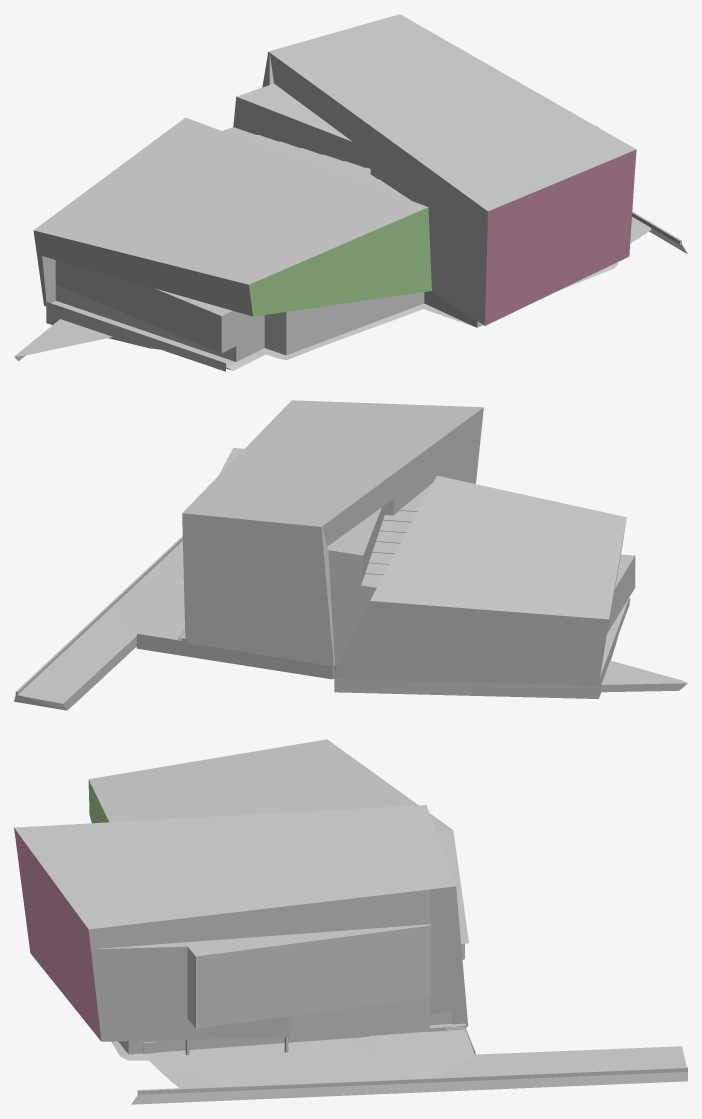
Rendered from Harpa.fbx.
3 views of the same model, one above another, from view 1: azimuth 30°, elevation 25°; view 2: azimuth 150°, elevation 25°; view 3: azimuth 270°, elevation 25° (orthographic). The views are drawn at different scales.
Visible parts, largest first — view 1: SketchUp; view 2: SketchUp; view 3: SketchUp.
Boxes of the visible parts, left/top/right/bottom form: SketchUp: left=14, top=14, right=687, bottom=371; SketchUp: left=14, top=400, right=687, bottom=710; SketchUp: left=14, top=739, right=687, bottom=1104.
Size of the model in its own units: 1241 by 327 by 1169.
